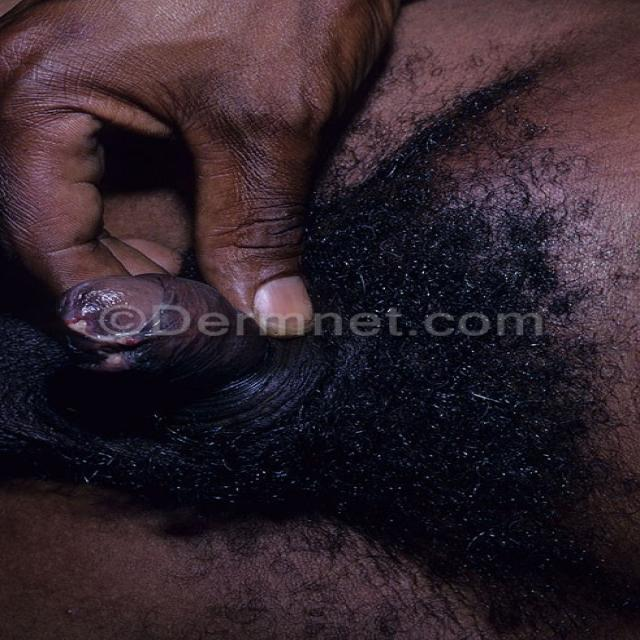Shingles: (62, 310, 147, 372)
